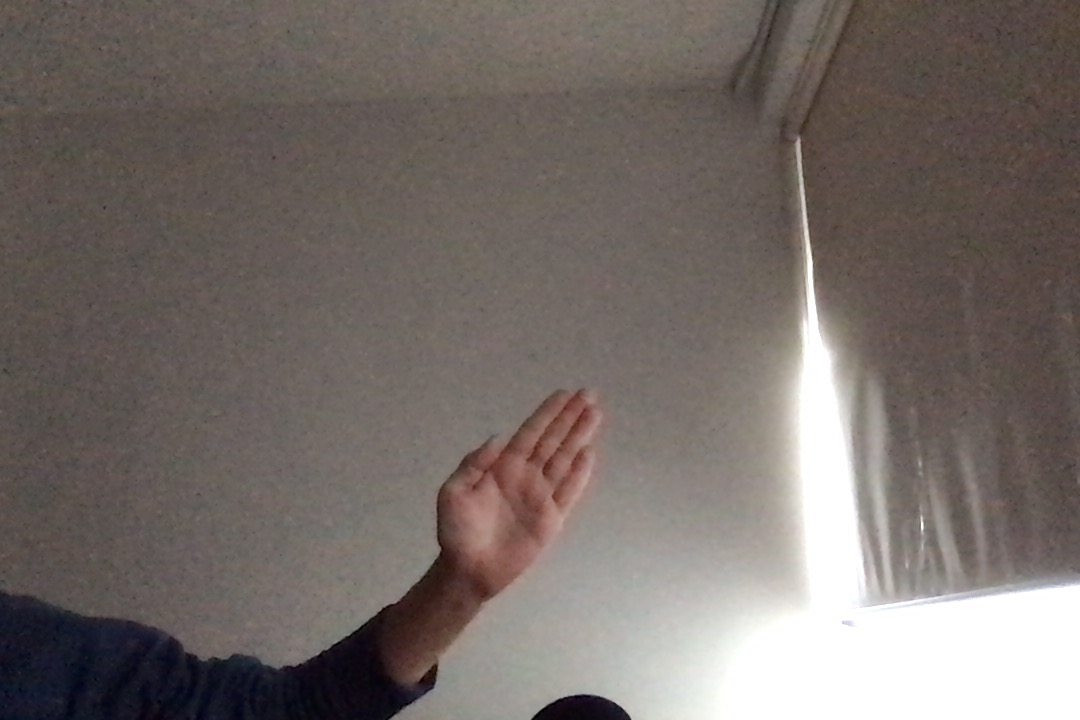palmhand: (430, 385, 607, 599)
